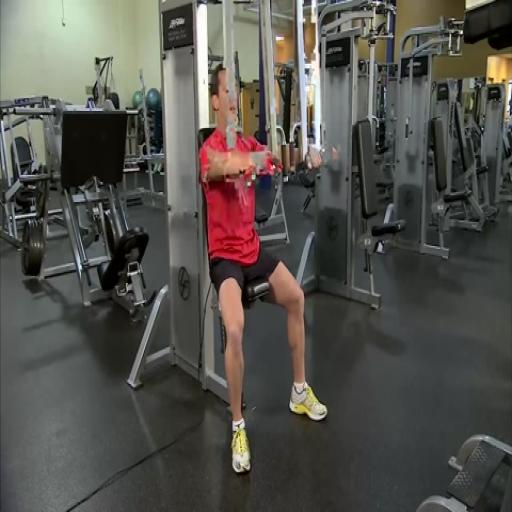exercise: (196, 61, 331, 477)
